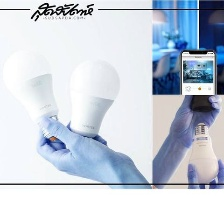light_bulb: (60, 53, 123, 156), (0, 48, 62, 148), (185, 118, 221, 185)
phone: (175, 46, 219, 118)
